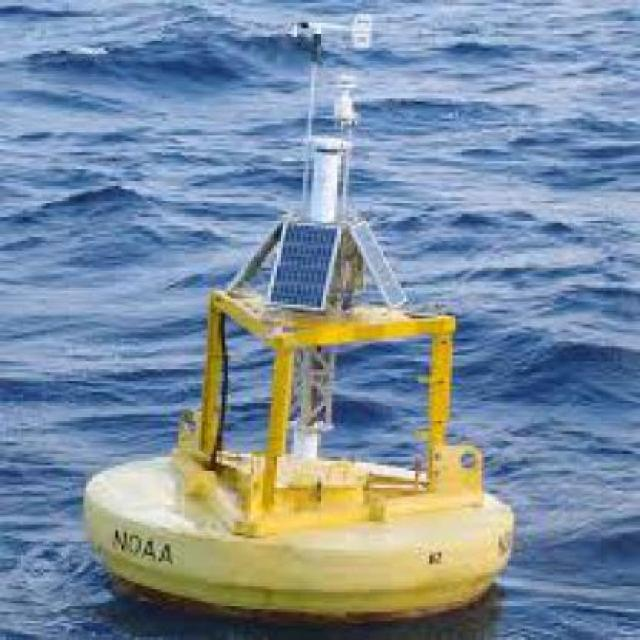buoy: (59, 10, 537, 639)
